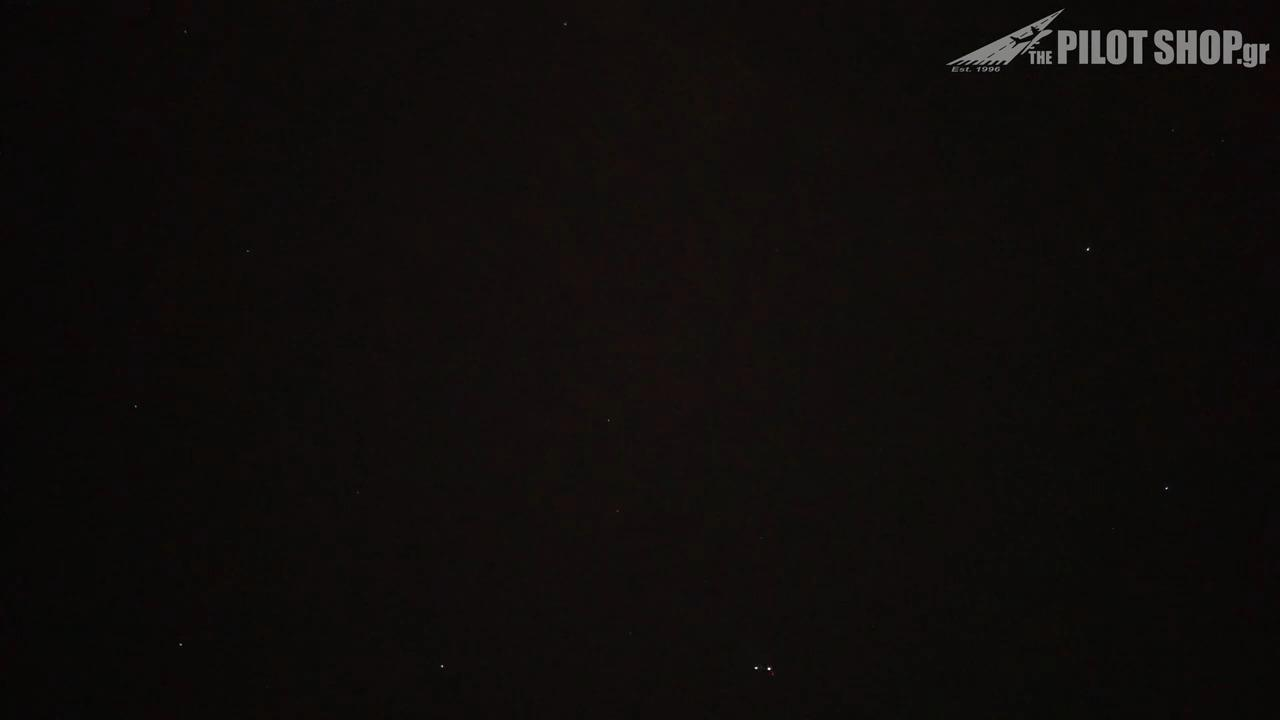Plane: (739, 659, 795, 684)
